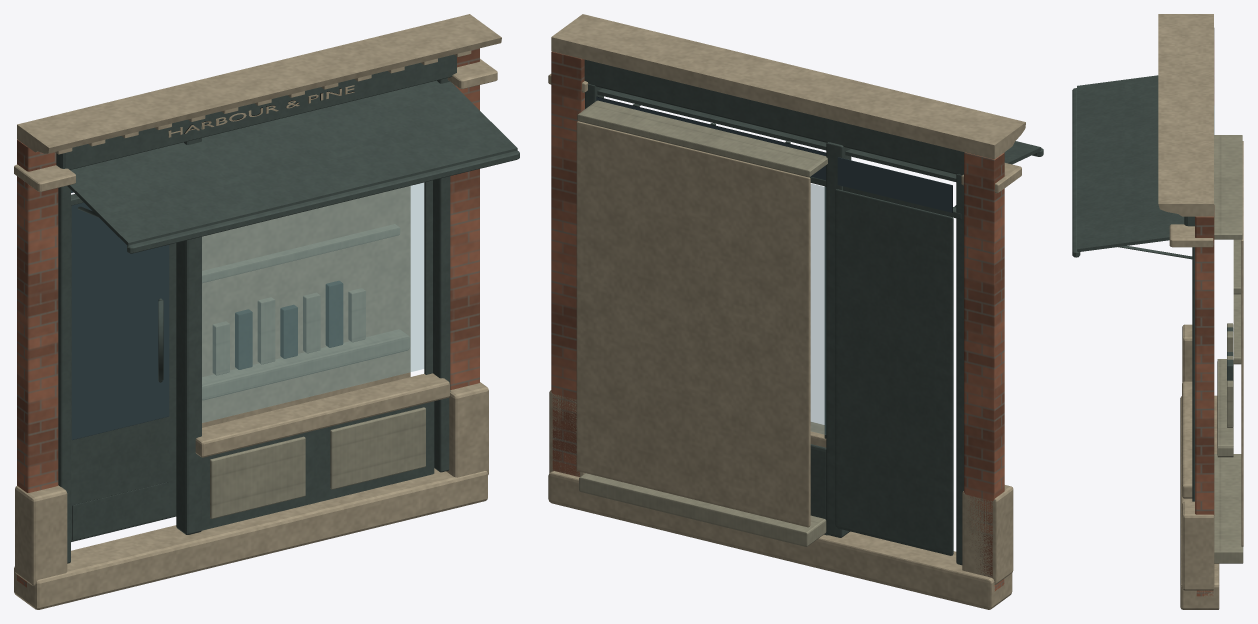
Rendered from heritage-shop-bay.lod0.glb.
3 renders of one model, left to right at view 1: azimuth 30°, elevation 25°; view 2: azimuth 150°, elevation 25°; view 3: azimuth 270°, elevation 25°, orthographic. The views are drawn at different scales.
Parts seen in each view (by area): view 1: heritage-shop-bay; view 2: heritage-shop-bay; view 3: heritage-shop-bay.
Part boxes in pixels (box(x1,y1,x2,y2)): heritage-shop-bay: box(14, 14, 519, 609); heritage-shop-bay: box(548, 14, 1043, 609); heritage-shop-bay: box(1072, 14, 1243, 609).
Size of the model in its own units: 3.25 by 3.2 by 1.22.
3 materials, 1 textured.
